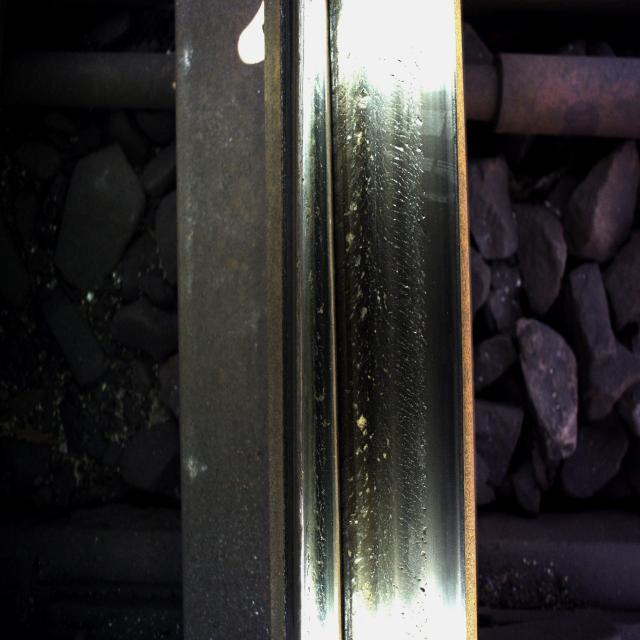crack: (337, 57, 395, 594)
